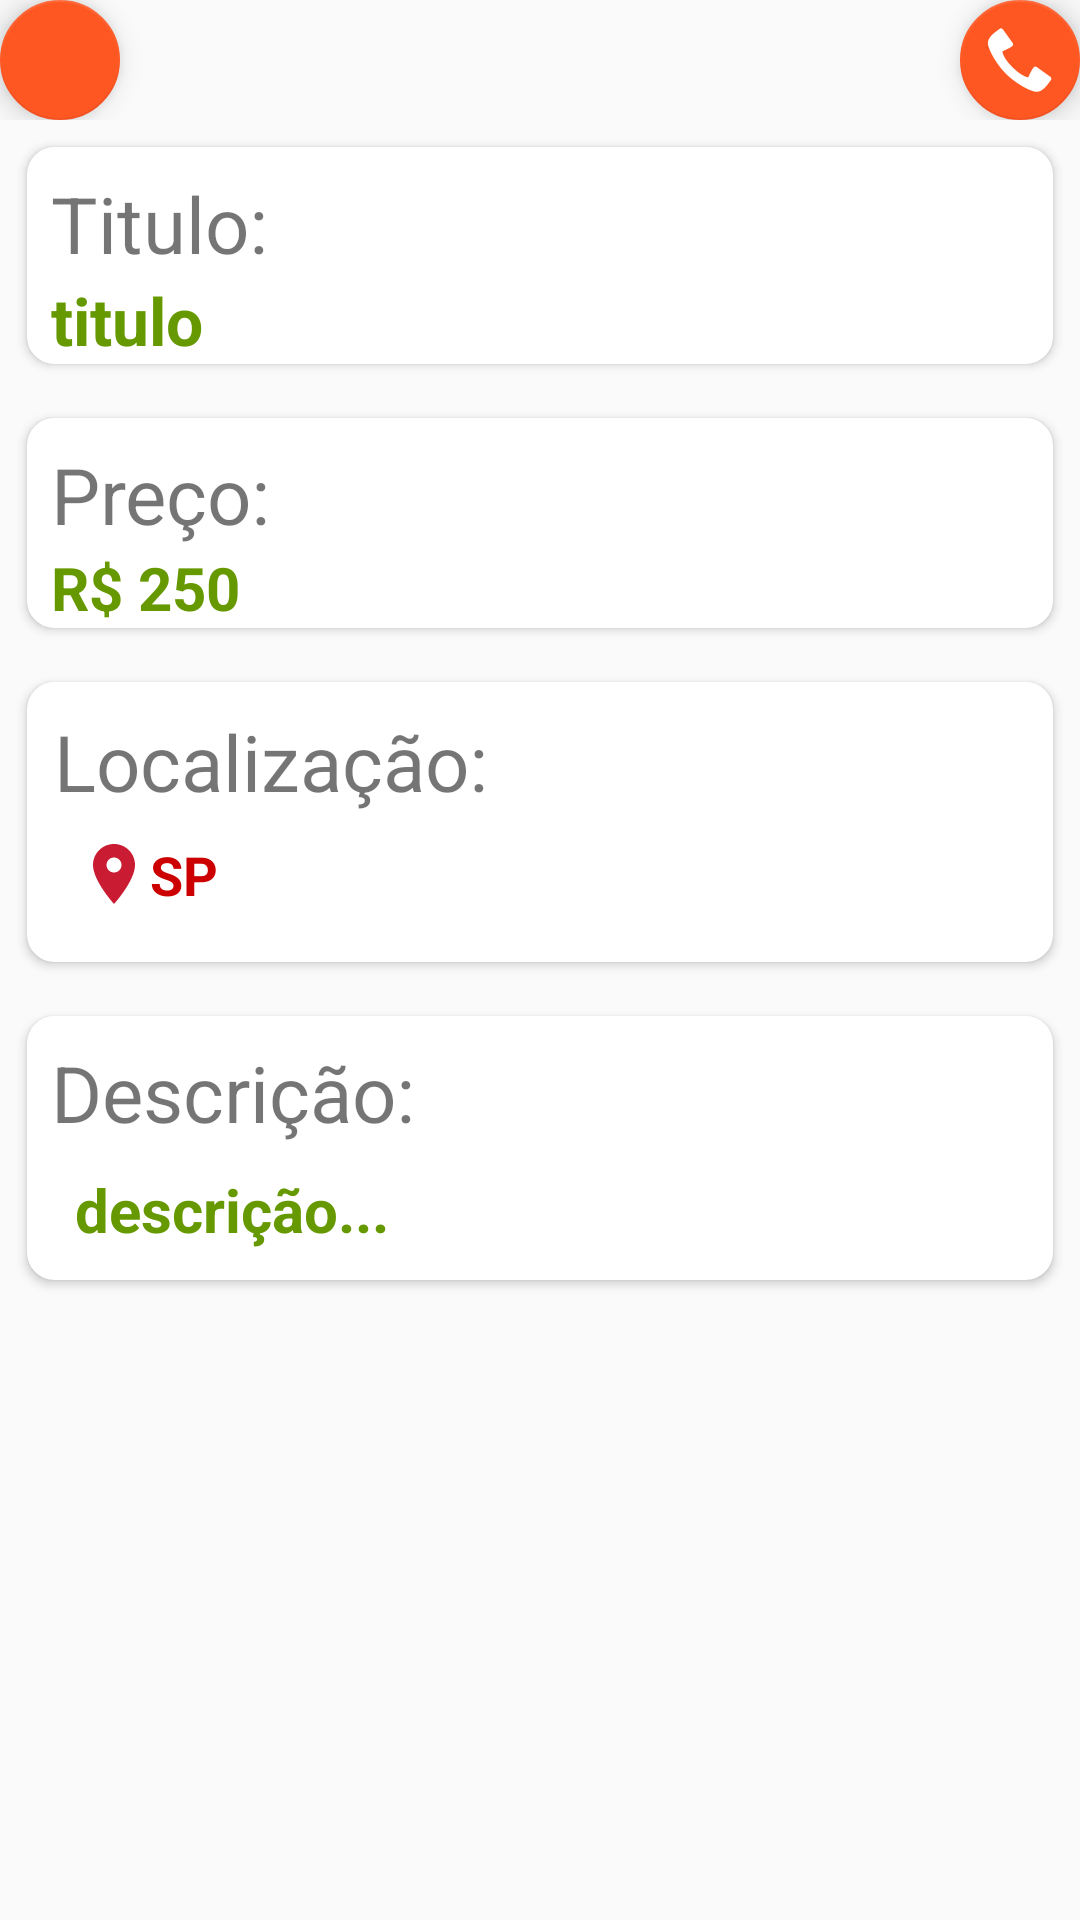

Named icons in this screenshot (1080px×1920px) and their bounding boxes, (x1, y1, x2, y2):
phone call: (960, 0, 1080, 120)
